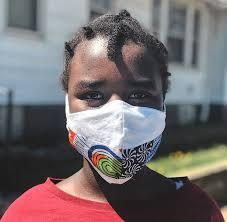Wearing Mask: (58, 7, 173, 189)
